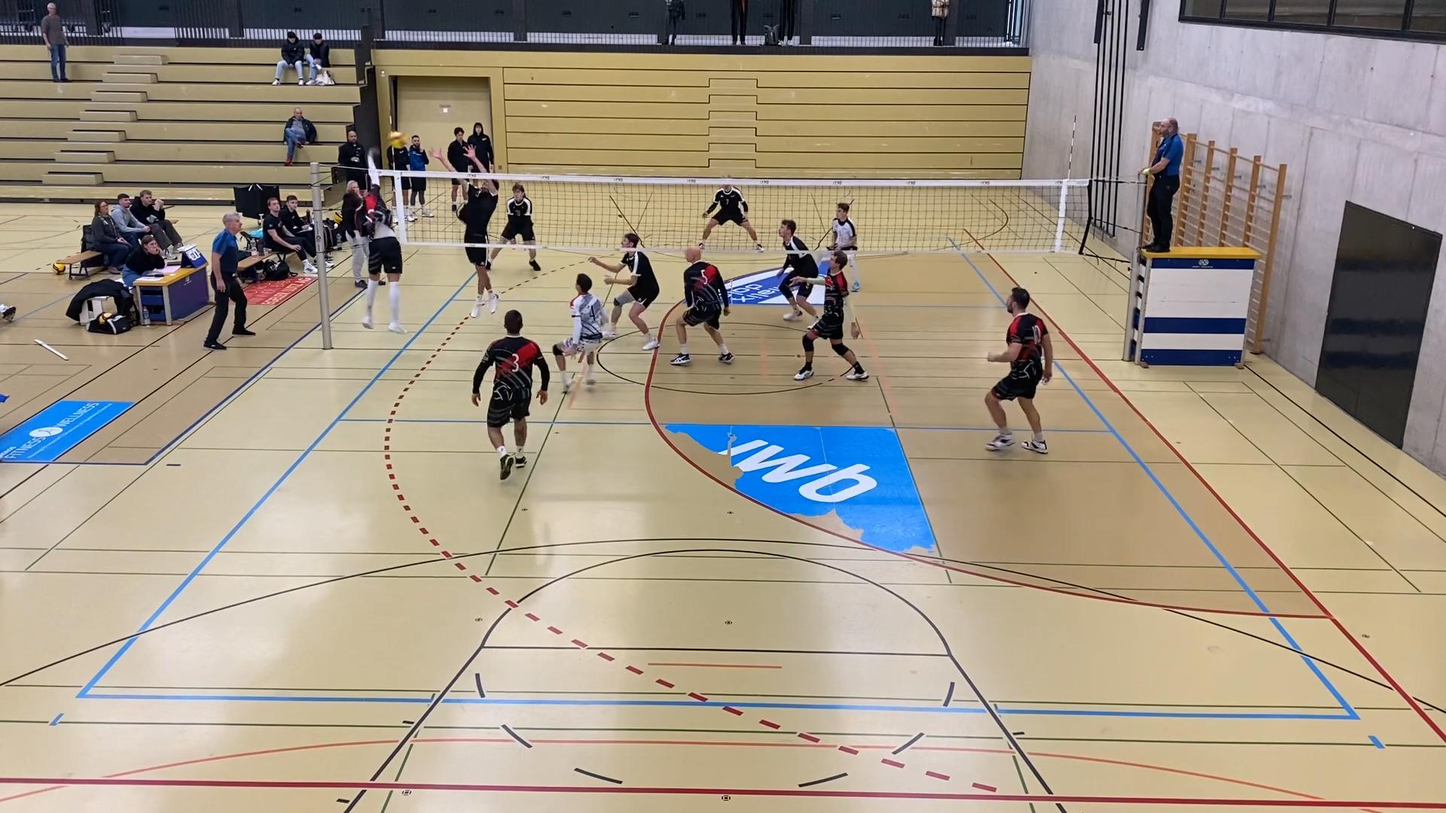attacco: (329, 143, 415, 339)
muro: (428, 134, 507, 321)
